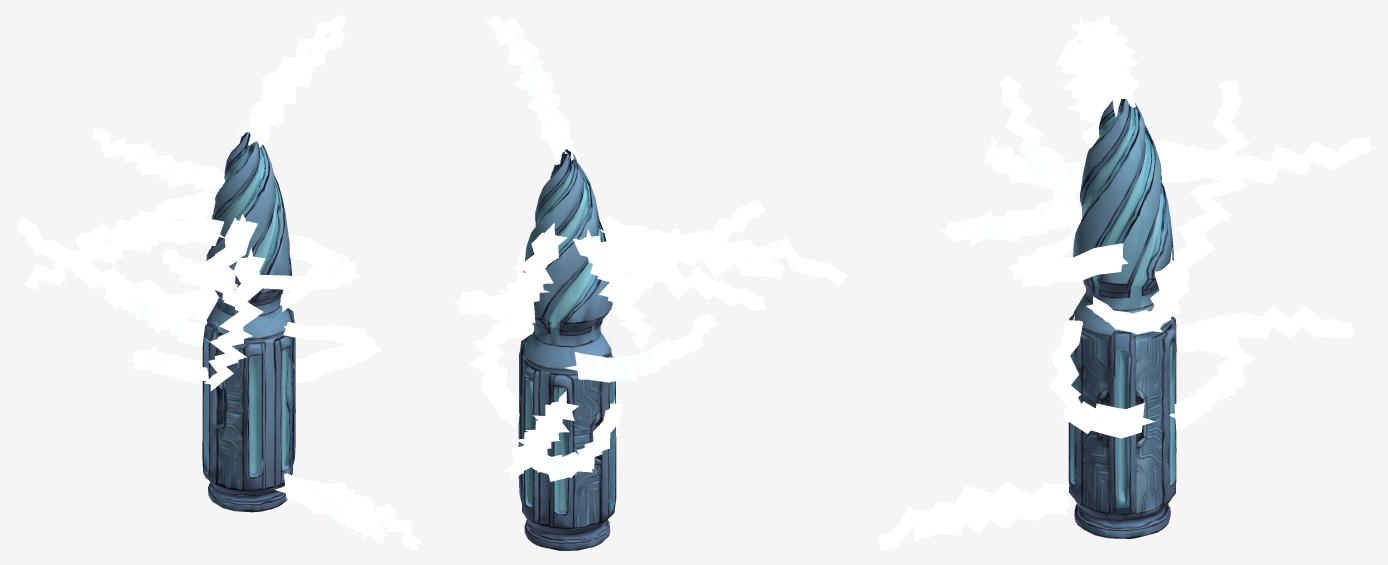
File: avatar-lod1.glb
The picture shows the model from 3 angles, left to right: view 1: azimuth 30°, elevation 25°; view 2: azimuth 150°, elevation 25°; view 3: azimuth 270°, elevation 25°; orthographic projection. The views are drawn at different scales.
Visible parts, largest first — view 1: Lightning, Shell; view 2: Lightning, Shell; view 3: Lightning, Shell.
Part boxes in pixels (x1,y1,x2,y2): Lightning: (16,14,421,550); Shell: (202,132,295,512); Lightning: (450,14,847,481); Shell: (518,149,616,550); Lightning: (876,14,1373,550); Shell: (1068,99,1176,538).
Bounding box in the file's own units: 1.82 × 2.32 × 1.9.
2 materials, 1 textured.
